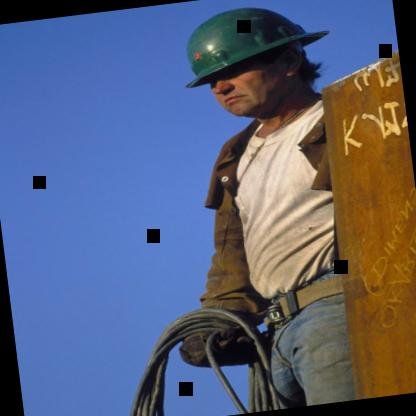helmet: (148, 0, 339, 137)
